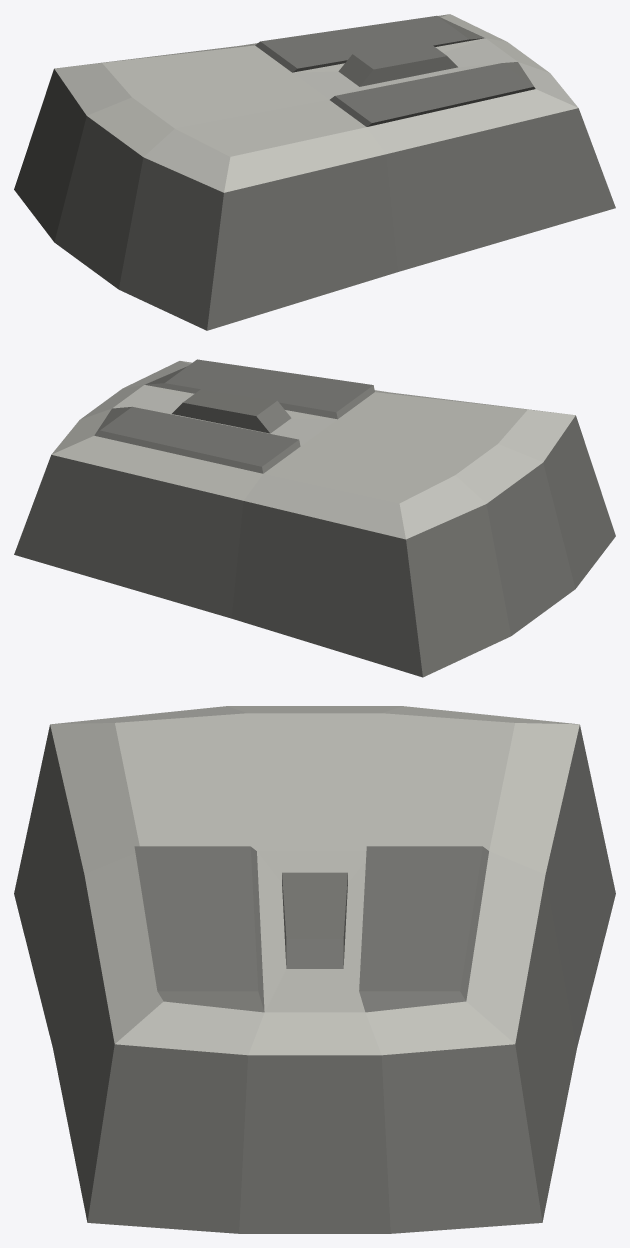
File: Mouse.fbx
The picture shows the model from 3 angles, top to bottom: view 1: azimuth 30°, elevation 25°; view 2: azimuth 150°, elevation 25°; view 3: azimuth 270°, elevation 25°; orthographic projection. The views are drawn at different scales.
Parts seen in each view (by area): view 1: Cube.8163; view 2: Cube.8163; view 3: Cube.8163.
Part boxes in pixels (x1=…): Cube.8163: x1=14, y1=14, x2=615, y2=330; Cube.8163: x1=14, y1=359, x2=615, y2=677; Cube.8163: x1=14, y1=706, x2=615, y2=1233.
Bounding box in the file's own units: 27.39 × 7.6 × 19.44.
1 material, 1 textured.
